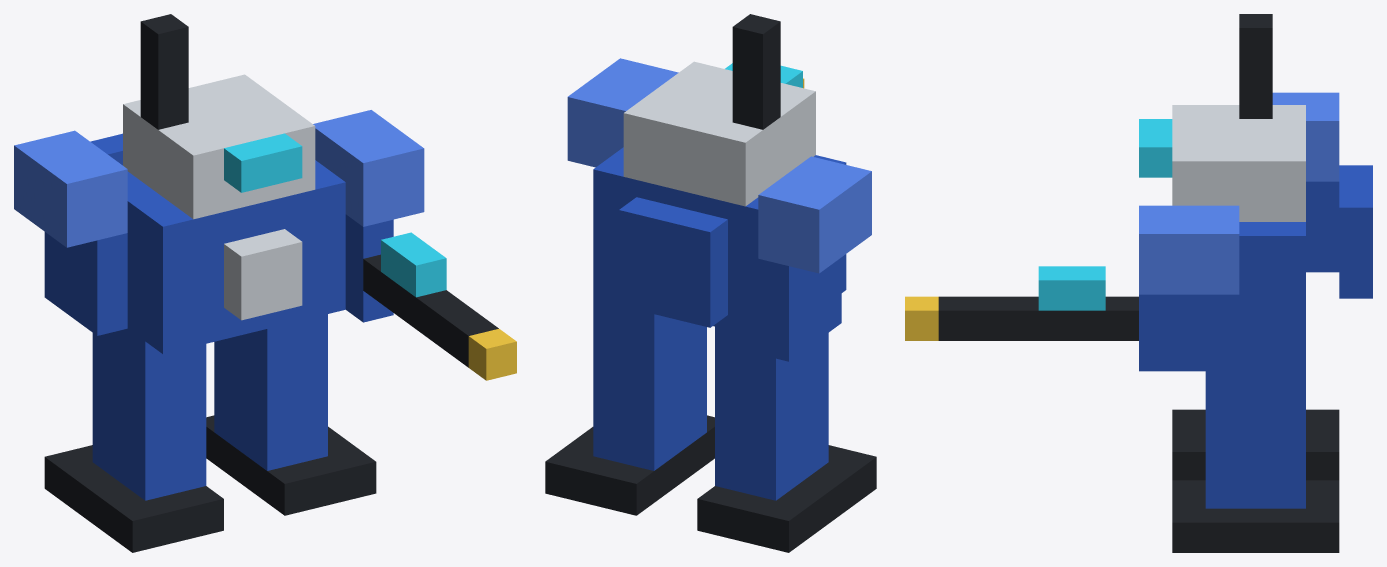
File: mech_light_scout_attack.glb
3 views of the same model, side by side, from view 1: azimuth 30°, elevation 25°; view 2: azimuth 150°, elevation 25°; view 3: azimuth 270°, elevation 25° (orthographic). The views are drawn at different scales.
Visible parts, largest first — view 1: Torso mesh, Head mesh, Feet mesh, Arm L mesh, Leg L mesh, Leg R mesh, Arm R mesh, Gun mesh, Antenna mesh, Flash mesh; view 2: Head mesh, Arm L mesh, Feet mesh, Leg R mesh, Leg L mesh, Pack mesh, Torso mesh, Arm R mesh, Antenna mesh; view 3: Arm R mesh, Head mesh, Leg R mesh, Feet mesh, Gun mesh, Torso mesh, Arm L mesh, Pack mesh, Antenna mesh, Flash mesh.
Boxes of the visible parts, <box> form: Torso mesh: <box>127,160,345,354</box>; Head mesh: <box>123,74,315,219</box>; Feet mesh: <box>44,415,376,552</box>; Arm L mesh: <box>14,130,127,335</box>; Leg L mesh: <box>92,328,206,500</box>; Leg R mesh: <box>214,314,327,470</box>; Arm R mesh: <box>313,110,424,322</box>; Gun mesh: <box>363,232,498,367</box>; Antenna mesh: <box>140,14,188,129</box>; Flash mesh: <box>468,329,516,380</box>; Head mesh: <box>623,61,815,206</box>; Arm L mesh: <box>758,156,871,361</box>; Feet mesh: <box>545,415,876,552</box>; Leg R mesh: <box>593,297,706,470</box>; Leg L mesh: <box>715,326,828,500</box>; Pack mesh: <box>619,197,727,327</box>; Torso mesh: <box>593,147,846,336</box>; Arm R mesh: <box>567,58,678,167</box>; Antenna mesh: <box>732,14,780,129</box>; Arm R mesh: <box>1139,205,1239,371</box>; Head mesh: <box>1139,105,1305,221</box>; Leg R mesh: <box>1205,357,1305,508</box>; Feet mesh: <box>1172,409,1339,552</box>; Gun mesh: <box>938,266,1138,340</box>; Torso mesh: <box>1239,222,1305,357</box>; Arm L mesh: <box>1272,92,1339,272</box>; Pack mesh: <box>1339,165,1372,298</box>; Antenna mesh: <box>1239,14,1272,118</box>; Flash mesh: <box>905,296,938,340</box>.
Size of the model in its own units: 10 by 15 by 14.
1 material, 1 textured.
